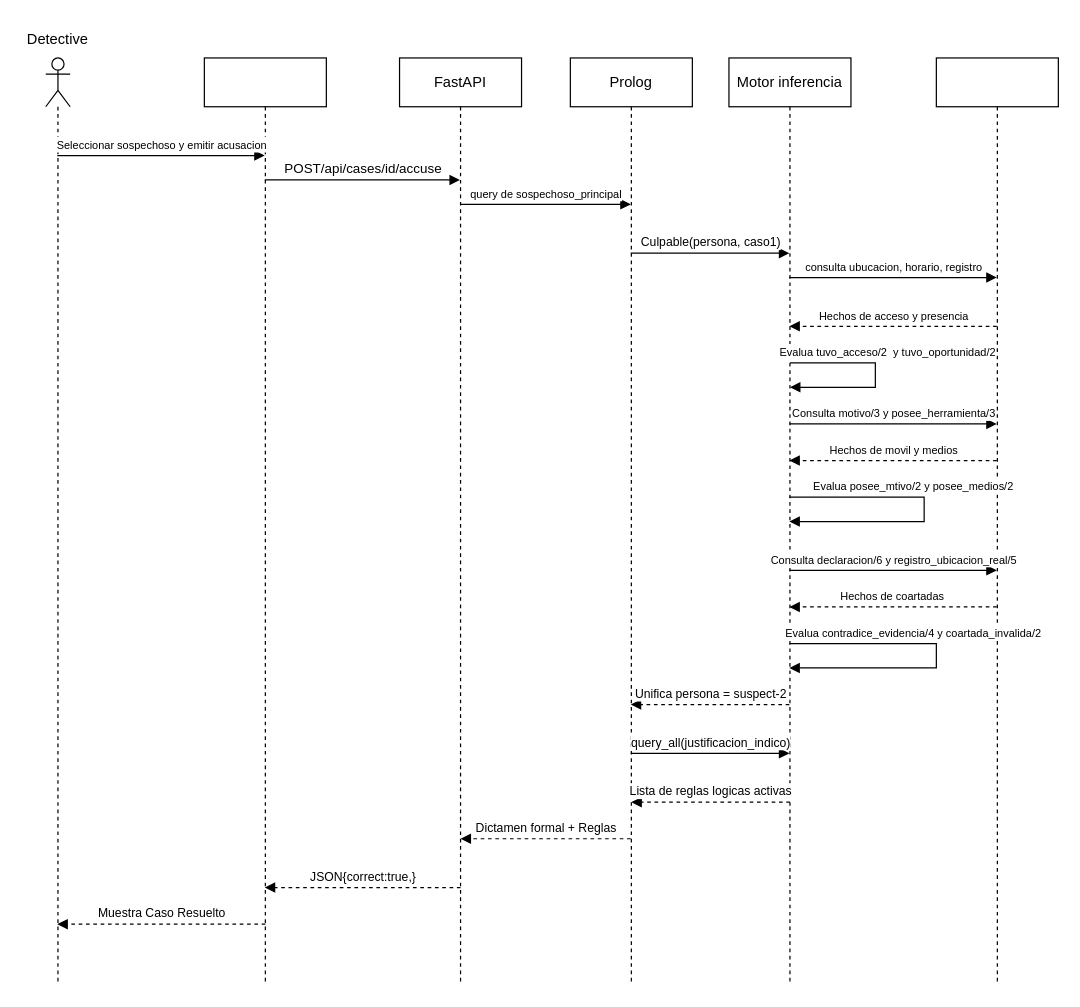
Some shapes in this 1080 by 1007 pixel diagram are drawn without their labels. Here are the shapes that lost their labels. From the top down, the box of each, then its label:
(203, 57, 326, 985): Dashboard Investigacion
(935, 57, 1058, 985): Base de echos
